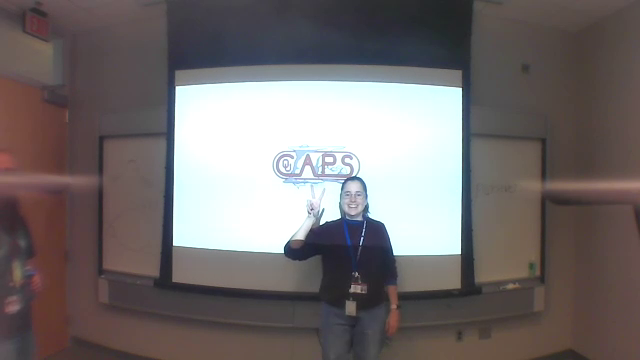peace: (304, 179, 330, 216)
